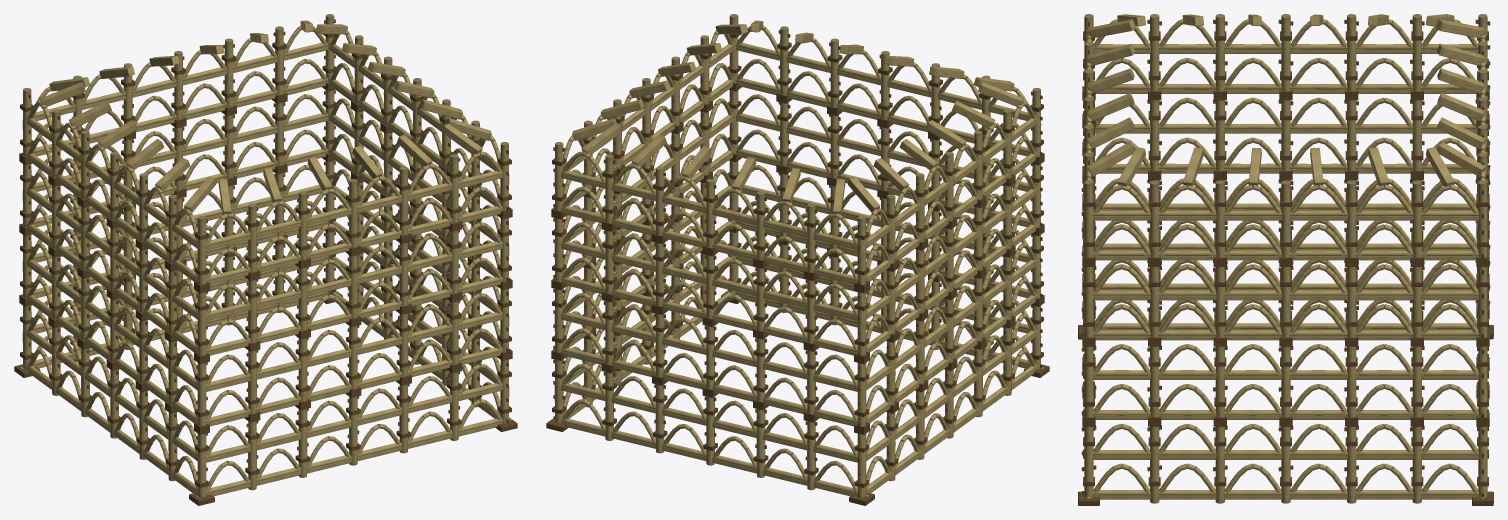
3 renders of one model, left to right at view 1: azimuth 30°, elevation 25°; view 2: azimuth 150°, elevation 25°; view 3: azimuth 270°, elevation 25°, orthographic. The views are drawn at different scales.
Visible parts, largest first — view 1: Tier 3 side 0 post 0, Tier 3 side 0 post 2; view 2: Tier 3 side 3 post 0, Tier 3 side 2 post 4; view 3: Tier 3 side 1 post 0, Tier 3 side 3 post 4, Tier 3 side 1 post 2, Tier 3 side 3 post 1, Tier 0 side 1 post 2, Tier 3 side 1 post 3, Tier 3 side 3 post 2, Tier 3 side 3 post 3, Tier 3 side 3 post 5, Tier 0 side 1 post 5, Tier 3 side 1 post 4, Tier 3 side 1 post 5 (+42 smaller).
Part boxes in pixels (x1,y1,x2,y2): Tier 3 side 0 post 0: (197, 216, 206, 284); Tier 3 side 0 post 2: (298, 191, 307, 260); Tier 3 side 3 post 0: (857, 216, 866, 284); Tier 3 side 2 post 4: (756, 191, 765, 260); Tier 3 side 1 post 0: (1084, 180, 1093, 257); Tier 3 side 3 post 4: (1215, 14, 1224, 91); Tier 3 side 1 post 2: (1215, 180, 1224, 257); Tier 3 side 3 post 1: (1412, 14, 1421, 91); Tier 0 side 1 post 2: (1215, 426, 1224, 503); Tier 3 side 1 post 3: (1281, 180, 1290, 257); Tier 3 side 3 post 2: (1347, 14, 1356, 91); Tier 3 side 3 post 3: (1281, 14, 1290, 91); Tier 3 side 3 post 5: (1150, 14, 1159, 91); Tier 0 side 1 post 5: (1412, 426, 1421, 503); Tier 3 side 1 post 4: (1347, 180, 1356, 257); Tier 3 side 1 post 5: (1412, 180, 1421, 257).
Size of the model in its own units: 2.85 by 2.54 by 2.85.
2 materials, 2 textured.
